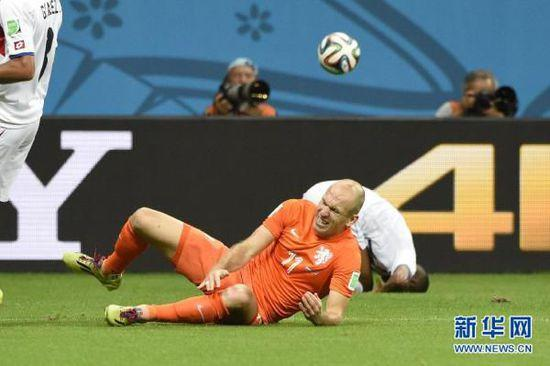bending: (304, 165, 429, 299)
down: (70, 177, 366, 330)
